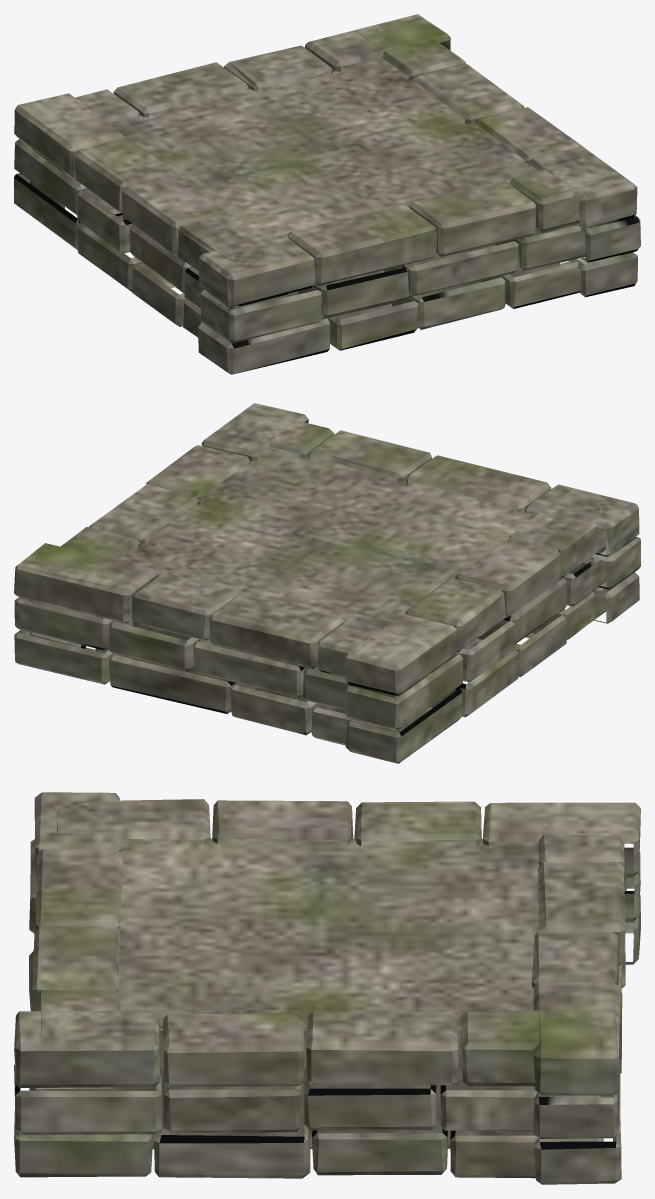
Rendered from Stone_Althara.glb.
The picture shows the model from 3 angles, top to bottom: view 1: azimuth 30°, elevation 25°; view 2: azimuth 150°, elevation 25°; view 3: azimuth 270°, elevation 25°; orthographic projection. The views are drawn at different scales.
Visible parts, largest first — view 1: Stone_Althara; view 2: Stone_Althara; view 3: Stone_Althara.
Boxes of the visible parts, bbox=[...] form: Stone_Althara: bbox=[14, 14, 640, 374]; Stone_Althara: bbox=[14, 403, 640, 763]; Stone_Althara: bbox=[14, 792, 640, 1184].
Bounding box in the file's own units: 2.8 × 0.6617 × 2.8.
Materials: 1 (1 with a texture image).
